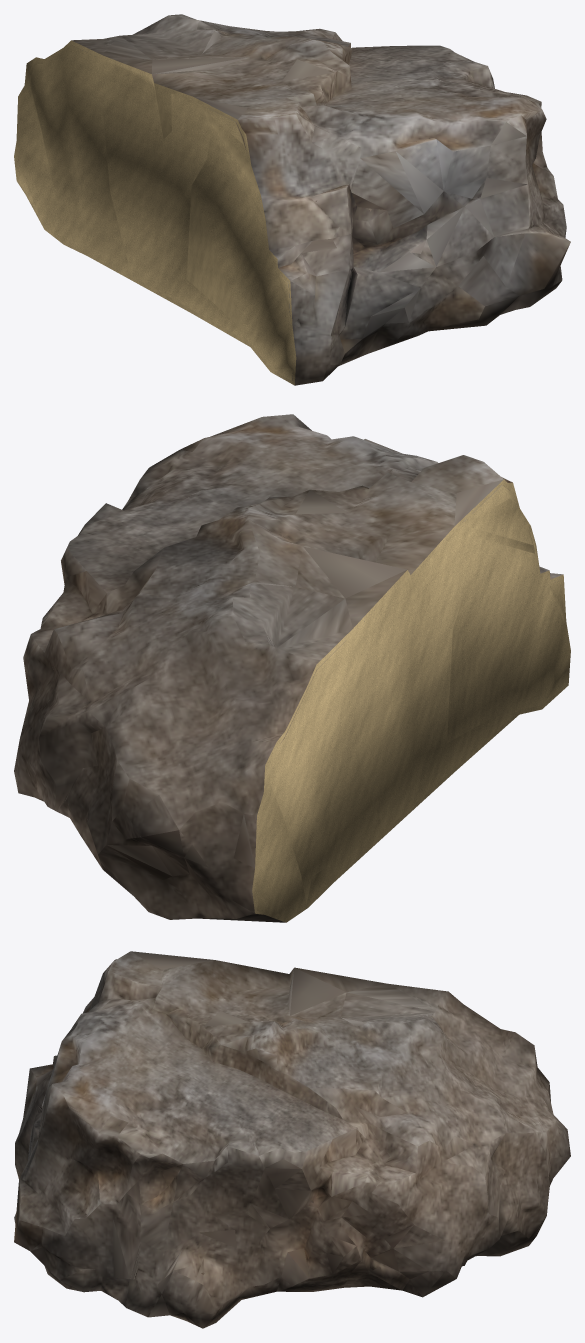
The model's file is shellstone-v0-recovered-lod0.gltf.
The picture shows the model from 3 angles, top to bottom: view 1: azimuth 30°, elevation 25°; view 2: azimuth 150°, elevation 25°; view 3: azimuth 270°, elevation 25°; orthographic projection. The views are drawn at different scales.
Parts seen in each view (by area): view 1: shellstone-v0-recovered-lod0; view 2: shellstone-v0-recovered-lod0; view 3: shellstone-v0-recovered-lod0.
Boxes of the visible parts, left/top/right/bottom form: shellstone-v0-recovered-lod0: left=14, top=14, right=570, bottom=385; shellstone-v0-recovered-lod0: left=14, top=414, right=570, bottom=922; shellstone-v0-recovered-lod0: left=14, top=951, right=570, bottom=1328.
Bounding box in the file's own units: 0.2412 × 0.1823 × 0.3711.
2 materials, 2 textured.
